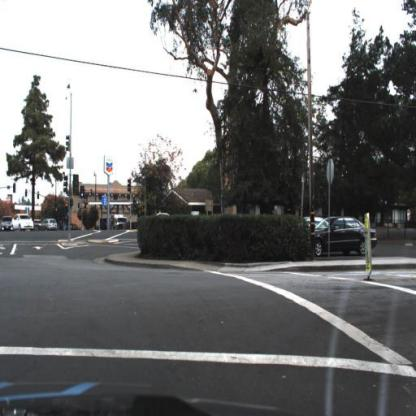car: (313, 216, 383, 260), (298, 214, 335, 242), (11, 213, 36, 233)
